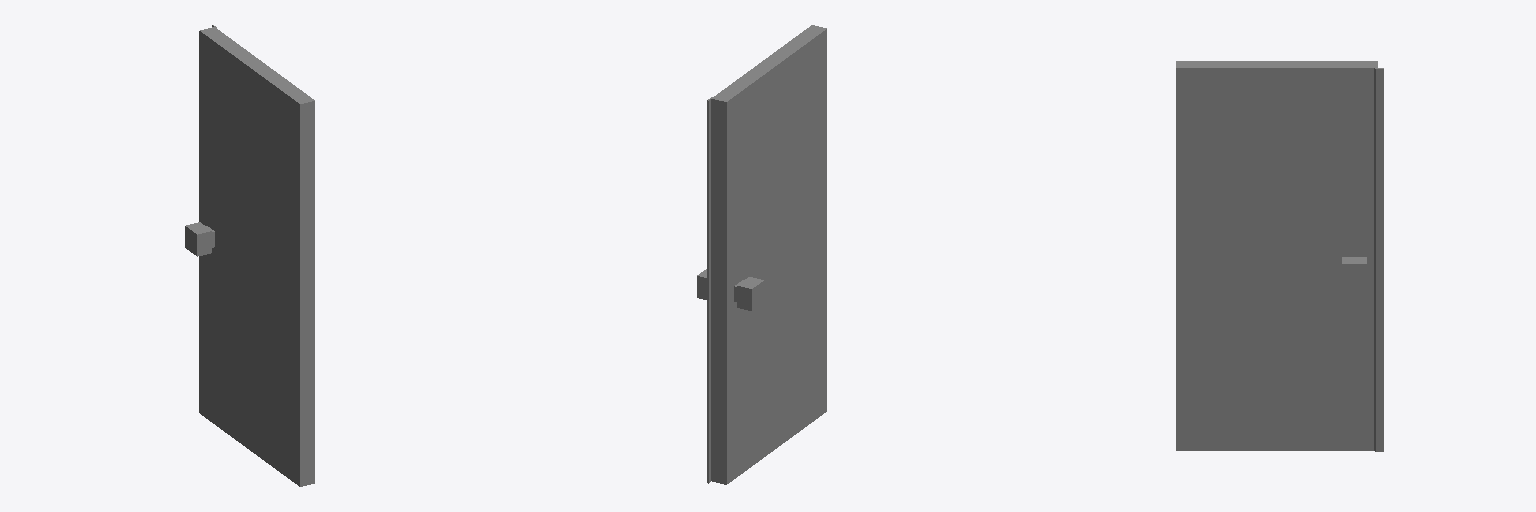
Rendered from nomal_door.obj.
3 renders of one model, left to right at view 1: azimuth 30°, elevation 25°; view 2: azimuth 150°, elevation 25°; view 3: azimuth 270°, elevation 25°, orthographic.
Visible parts, largest first — view 1: ???; view 2: ???; view 3: ???.
Part boxes in pixels (x1,y1,x2,y2): ???: (185,25,314,486); ???: (697,25,826,484); ???: (1176,61,1383,451).
Size of the model in its own units: 0.3882 by 2.58 by 1.27.